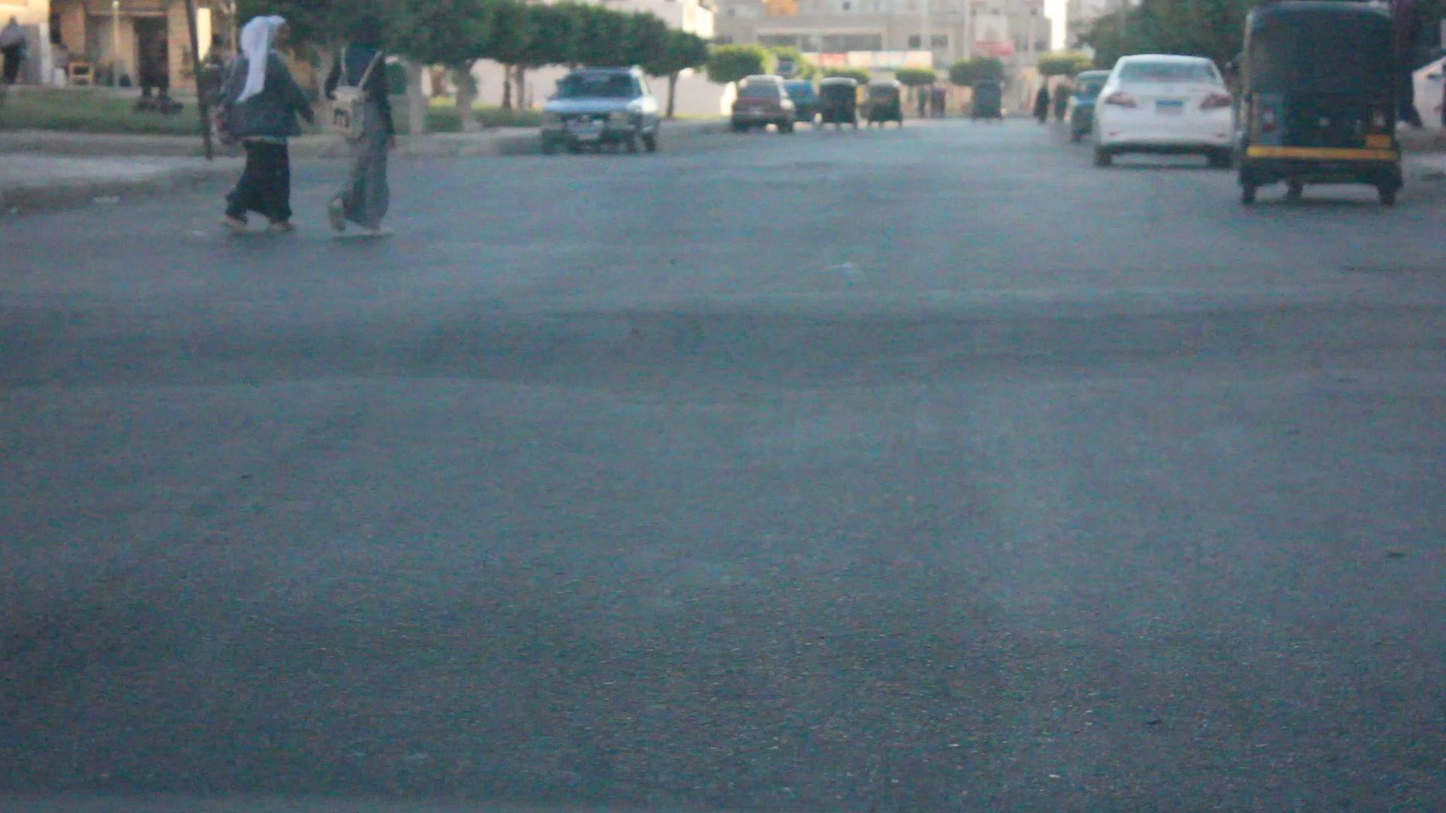Bump: (0, 278, 1440, 393)
